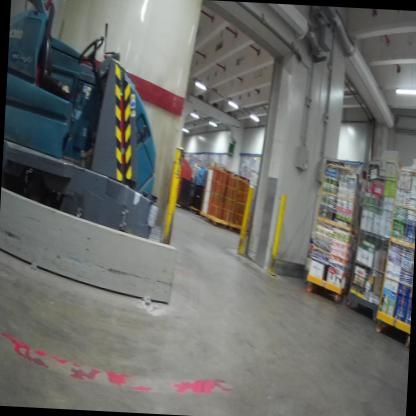pallet_truck: (162, 147, 195, 223)
